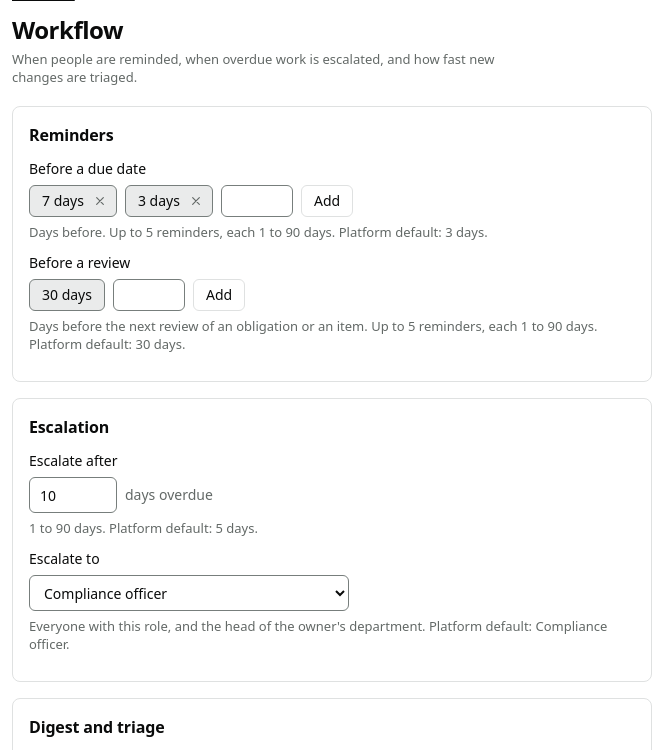
Test: the workflow policy page › saves the whole policy as keys and shows the saved state
The width and height of the screenshot is (669, 750).
Expected: the number field labelled "Escalate after" is shown, [29, 477, 117, 513]
Type "14" into the number field named "Days before a due date" at (257, 201), box [221, 185, 293, 217]
Click the button "Add" in the row of "7 days" at (327, 201), box [301, 185, 353, 217]
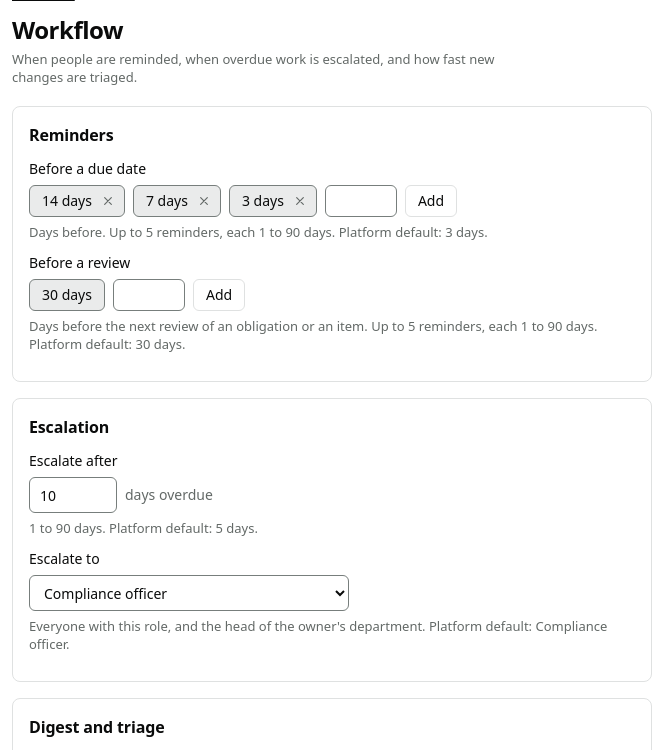
Click the button named "Remove 3 days" at (300, 201), box [288, 189, 312, 213]
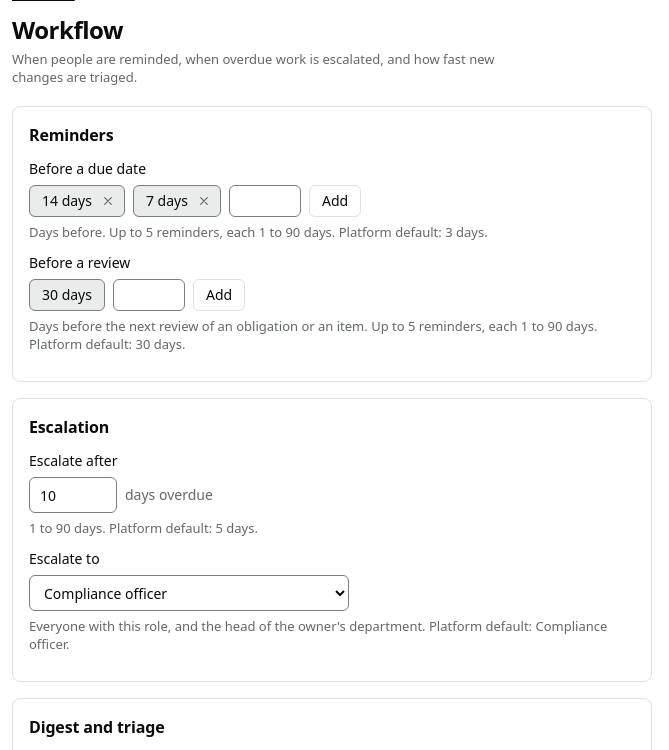
Select "Administrator" in the dropdown labelled "Escalate to" at (189, 593), box [29, 575, 349, 611]
(page scrolled)
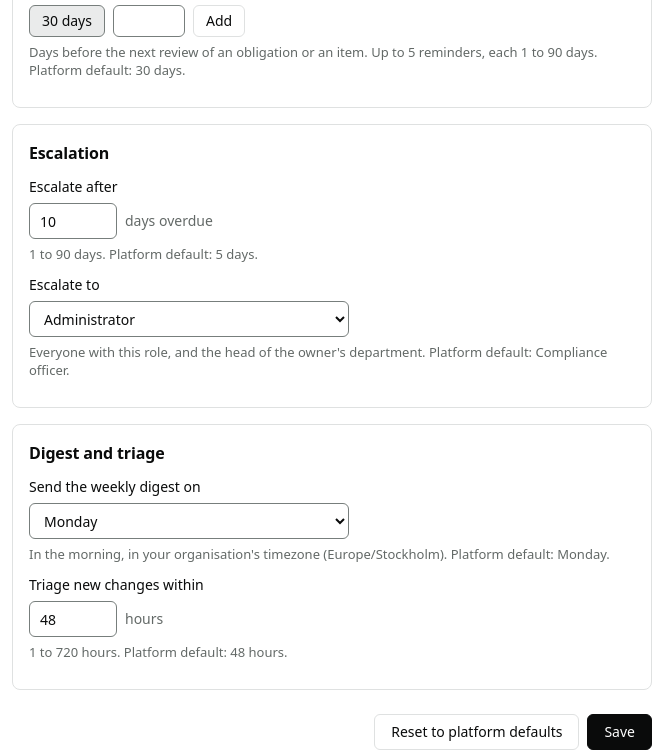
Select "Thursday" in the dropdown labelled "Send the weekly digest on" at (189, 521), box [29, 503, 349, 539]
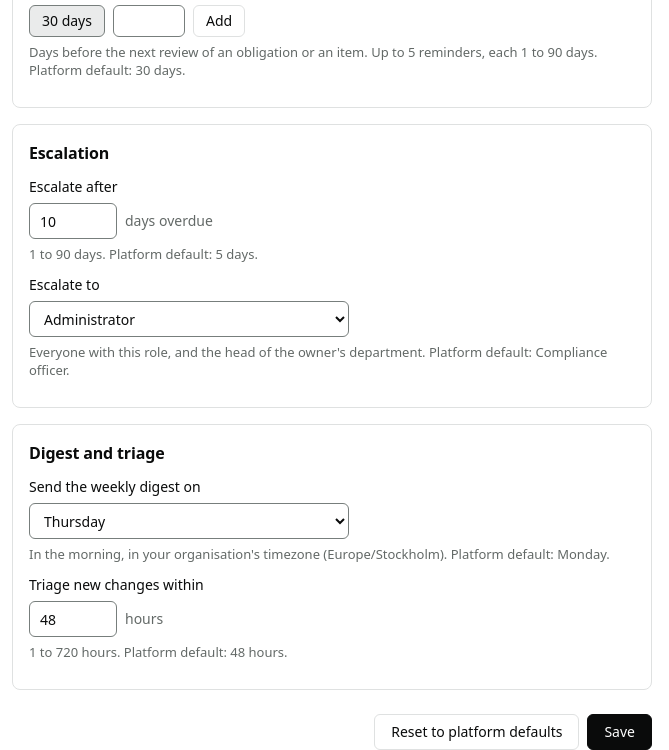
Replace the text in the number field labelled "Triage new changes within" with "72" at (73, 619), box [29, 601, 117, 637]
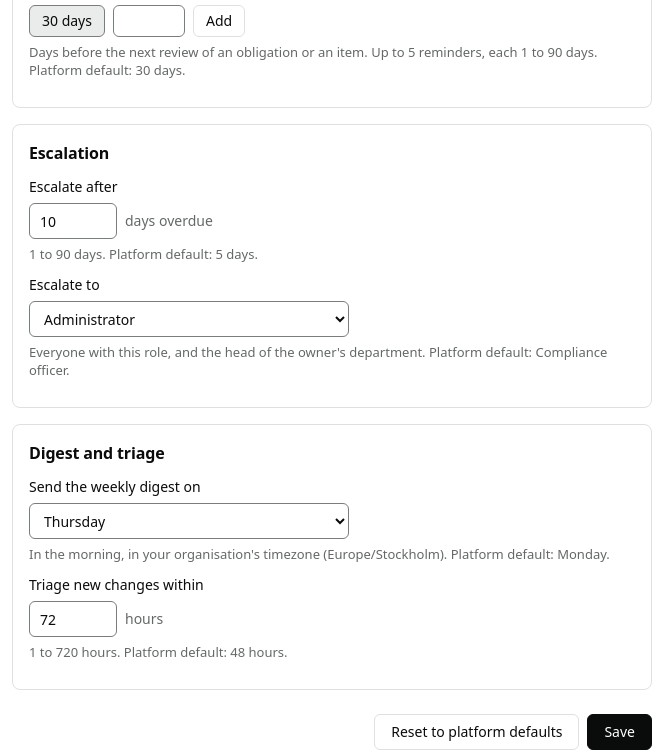
Click the button "Save" at (620, 732), box [587, 714, 652, 749]
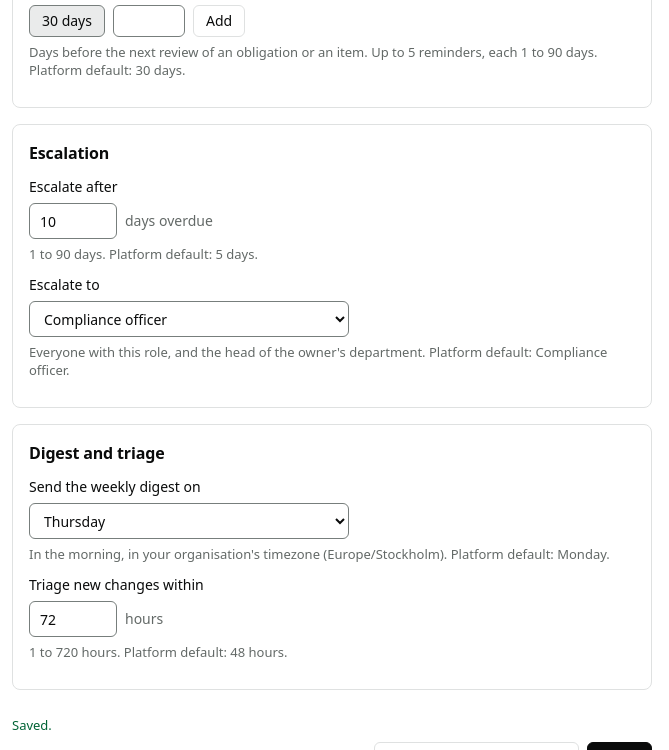
Now the text "Saved." is shown, box [12, 716, 52, 734]
